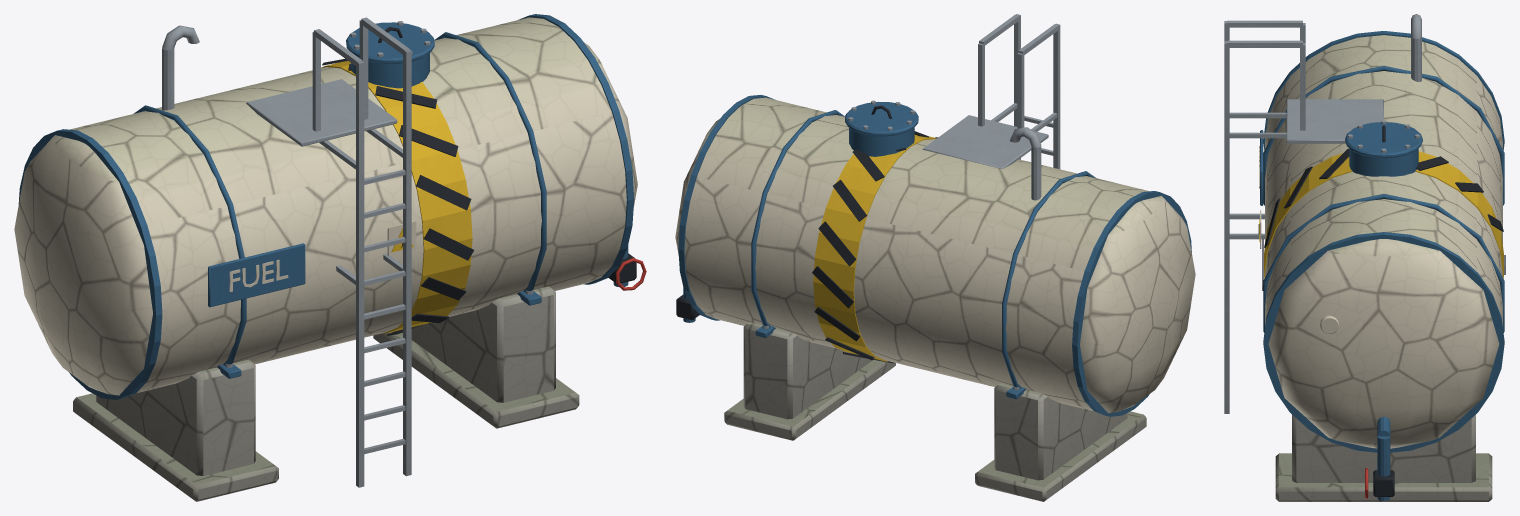
File: fuel_tank.glb
3 renders of one model, left to right at view 1: azimuth 30°, elevation 25°; view 2: azimuth 150°, elevation 25°; view 3: azimuth 270°, elevation 25°, orthographic. The views are drawn at different scales.
Parts seen in each view (by area): view 1: fuel_tank.001; view 2: fuel_tank.001; view 3: fuel_tank.001.
Boxes of the visible parts, x1=… form: fuel_tank.001: x1=14, y1=14, x2=646, y2=501; fuel_tank.001: x1=675, y1=14, x2=1195, y2=501; fuel_tank.001: x1=1224, y1=14, x2=1505, y2=501.
Bounding box in the file's own units: 5.41 × 3.83 × 2.6.
13 materials, 13 textured.
